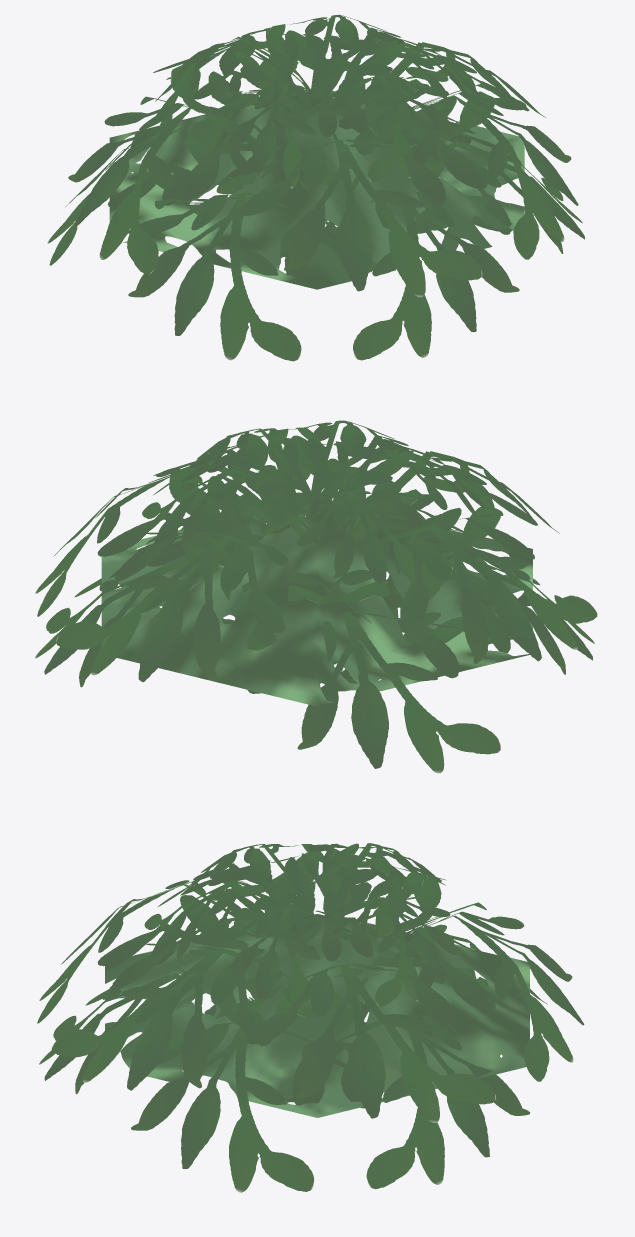
Rendered from Bush3.fbx.
3 renders of one model, top to bottom at view 1: azimuth 30°, elevation 25°; view 2: azimuth 150°, elevation 25°; view 3: azimuth 270°, elevation 25°, orthographic. The views are drawn at different scales.
Parts seen in each view (by area): view 1: polySurface542; view 2: polySurface542; view 3: polySurface542.
Part boxes in pixels (x1,y1,x2,y2): polySurface542: (47, 14, 584, 361); polySurface542: (35, 420, 597, 773); polySurface542: (37, 843, 584, 1192).
Bounding box in the file's own units: 1.7 × 0.6822 × 1.66.
